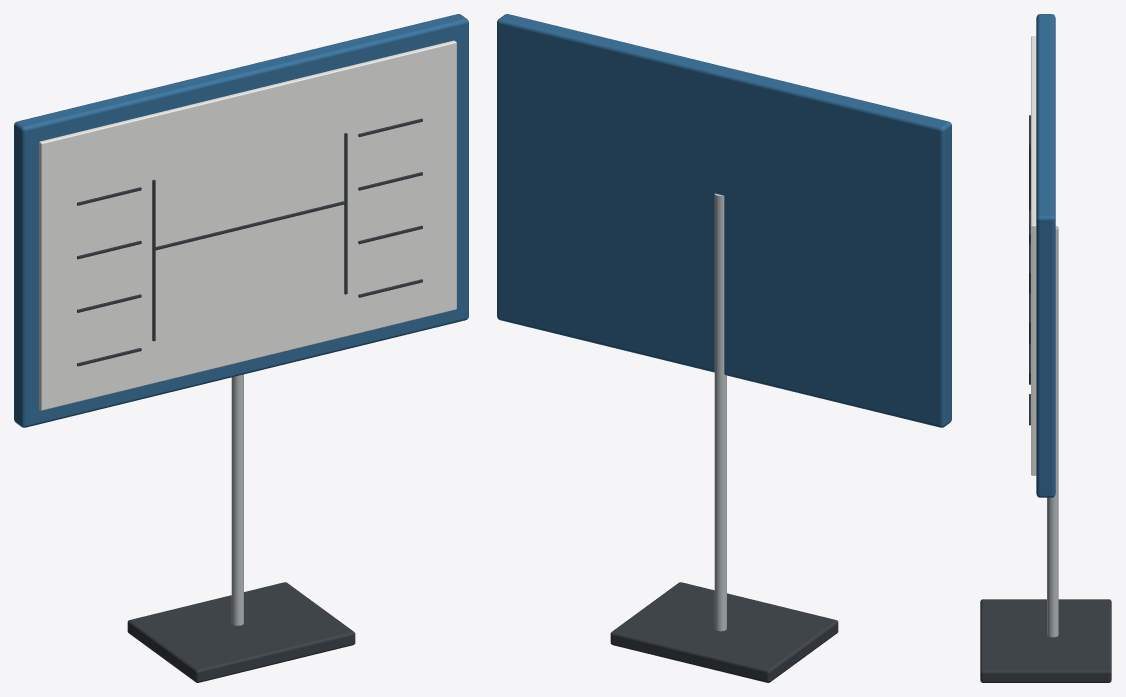
Rendered from fencing-club-and-tournament-piste-tournament-bracket-b-88f4955a__31252.glb.
3 renders of one model, left to right at view 1: azimuth 30°, elevation 25°; view 2: azimuth 150°, elevation 25°; view 3: azimuth 270°, elevation 25°, orthographic. The views are drawn at different scales.
Visible parts, largest first — view 1: tournament-bracket-board; view 2: tournament-bracket-board; view 3: tournament-bracket-board.
Boxes of the visible parts, box(x1,y1,x2,y2) form: tournament-bracket-board: box(14, 14, 468, 682); tournament-bracket-board: box(497, 14, 951, 682); tournament-bracket-board: box(980, 14, 1111, 682).
Size of the model in its own units: 1.4 by 1.7 by 0.38.
